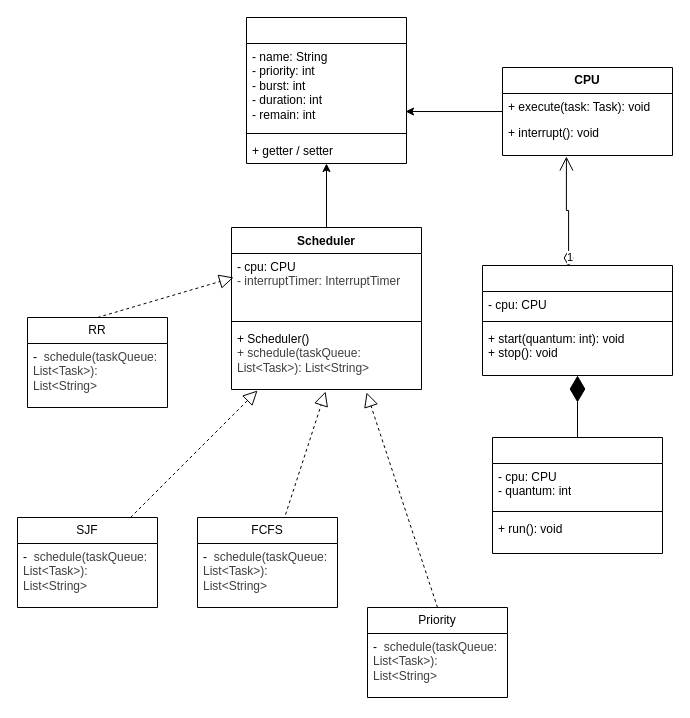
Image size: 690x718. Some labels were removed from this diagram. The box of each missing label's shape, as (x1, y1, x2, y2) in pixels:
InterruptTimer: (482, 264, 672, 376)
Task: (246, 16, 406, 164)
TimerThread: (492, 436, 662, 554)
